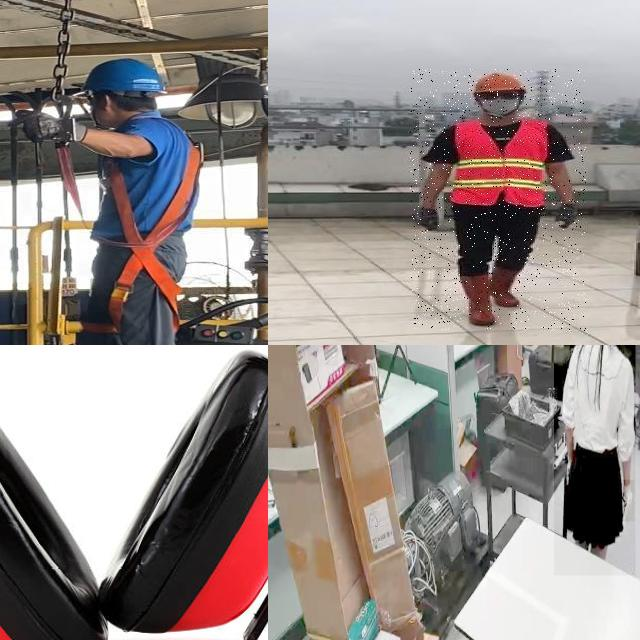Ear-protection: (0, 345, 268, 640)
Harness: (88, 124, 203, 345)
boots: (460, 272, 496, 325), (496, 266, 520, 311)
hand_glove: (620, 480, 635, 522)
head_helmet: (470, 72, 527, 93)
person: (410, 68, 586, 332), (554, 345, 636, 576)
vest: (451, 119, 547, 209)
